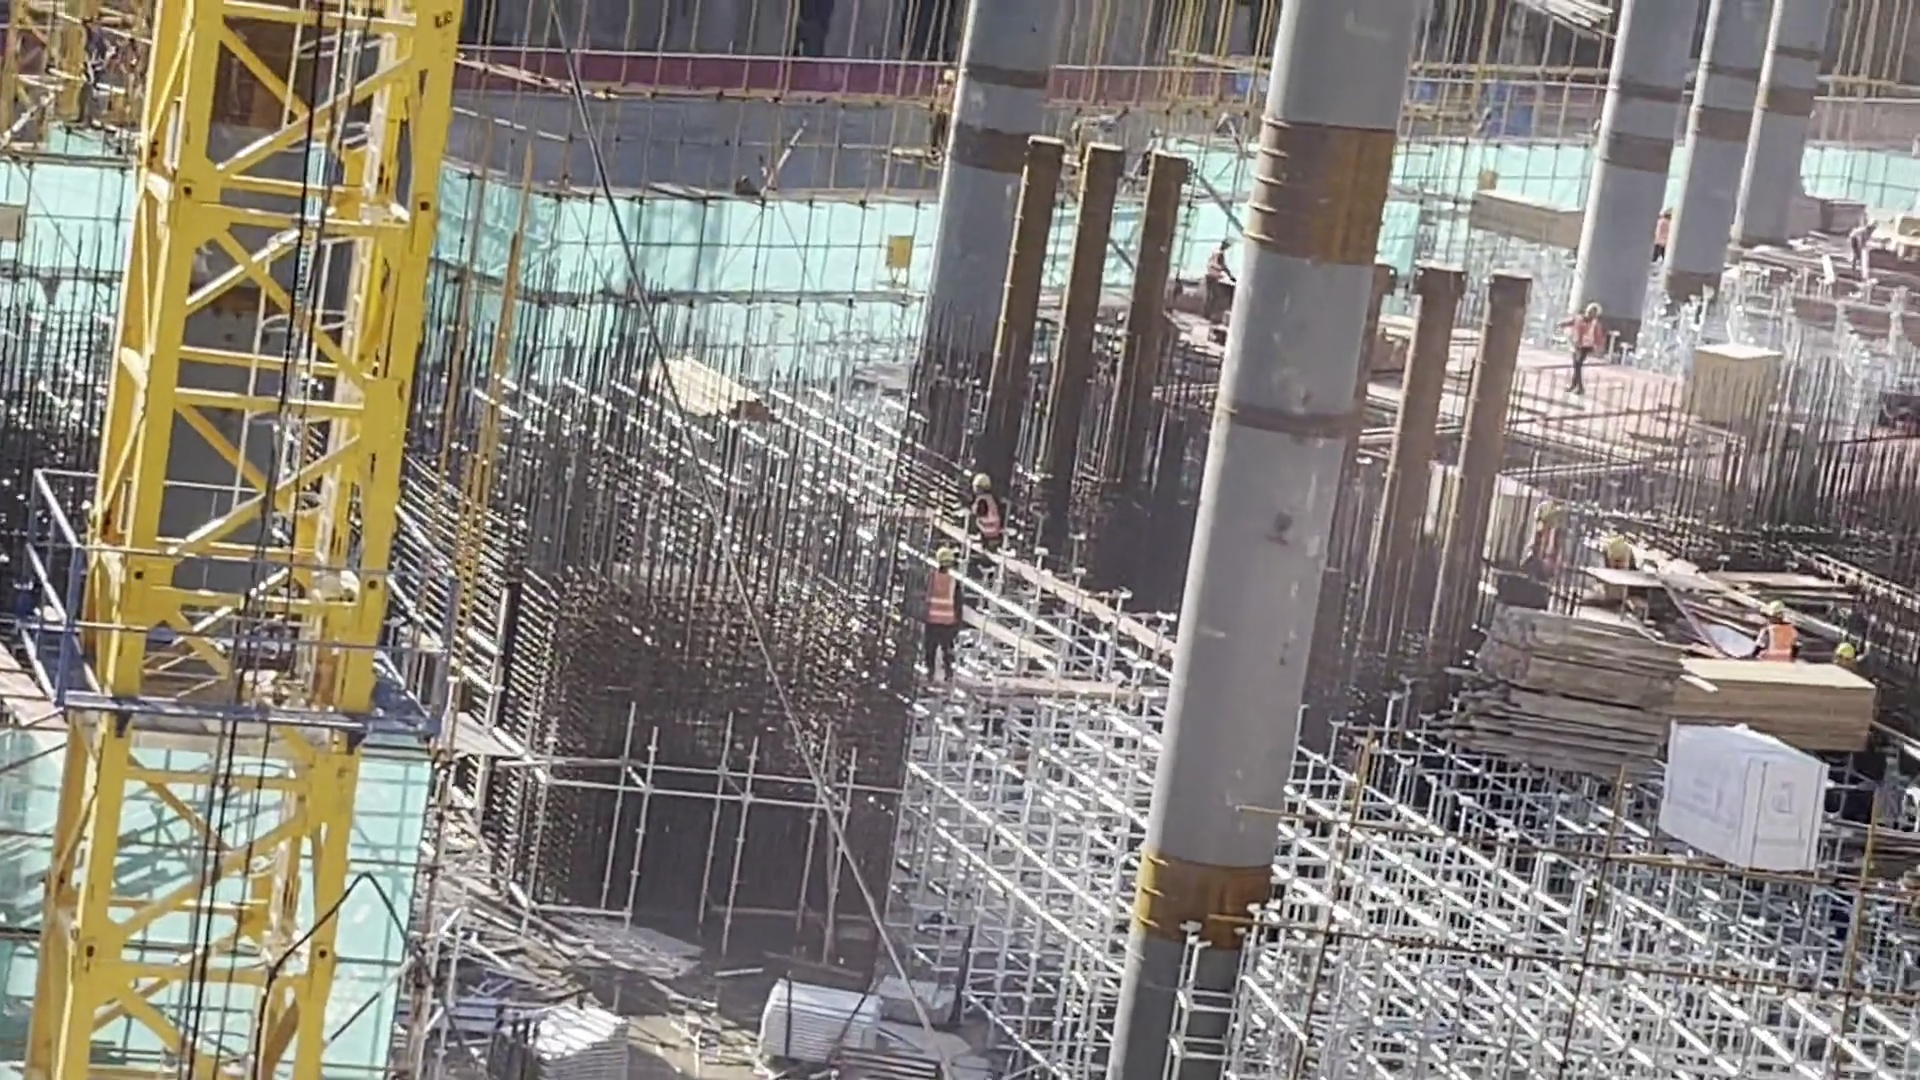cutter: (1587, 551, 1722, 616)
ebox: (885, 230, 913, 293)
helmet: (1603, 539, 1626, 559), (1763, 599, 1787, 617), (972, 474, 992, 491), (935, 547, 954, 565), (1837, 644, 1855, 661)
person: (919, 547, 963, 682), (1556, 302, 1601, 398), (1754, 597, 1801, 670), (967, 473, 999, 548), (1601, 536, 1639, 577), (1828, 642, 1861, 676), (1653, 208, 1672, 264)
scaffold: (753, 968, 890, 1078), (474, 996, 635, 1080)
vest: (1759, 620, 1803, 670), (922, 573, 960, 629), (1566, 318, 1597, 358), (971, 493, 996, 534)
wood: (1445, 597, 1678, 791), (1677, 650, 1878, 768)
